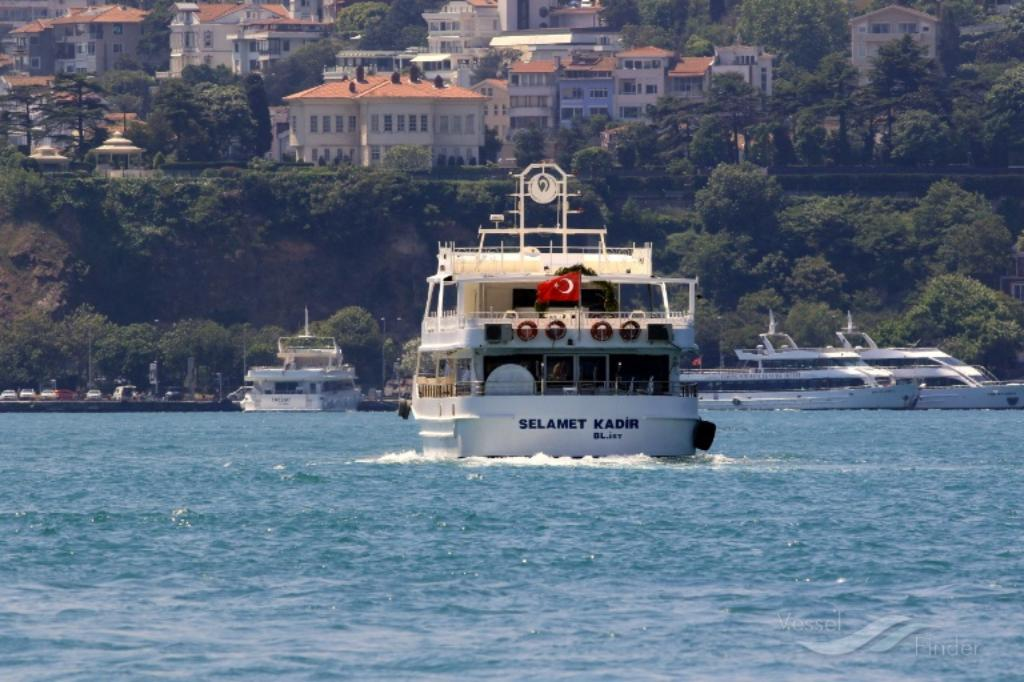PassengerShip: (396, 156, 726, 464), (696, 318, 1024, 420), (232, 334, 376, 419)
